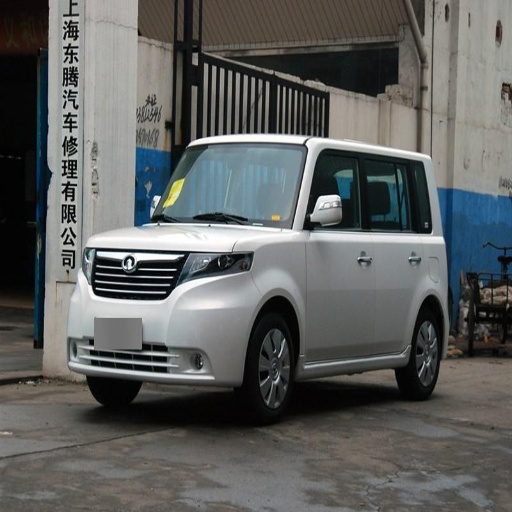front_bumper: (66, 246, 261, 390)
front_glass: (153, 148, 306, 226)
front_left_door: (303, 148, 374, 361)
trunk: (426, 239, 464, 319)
